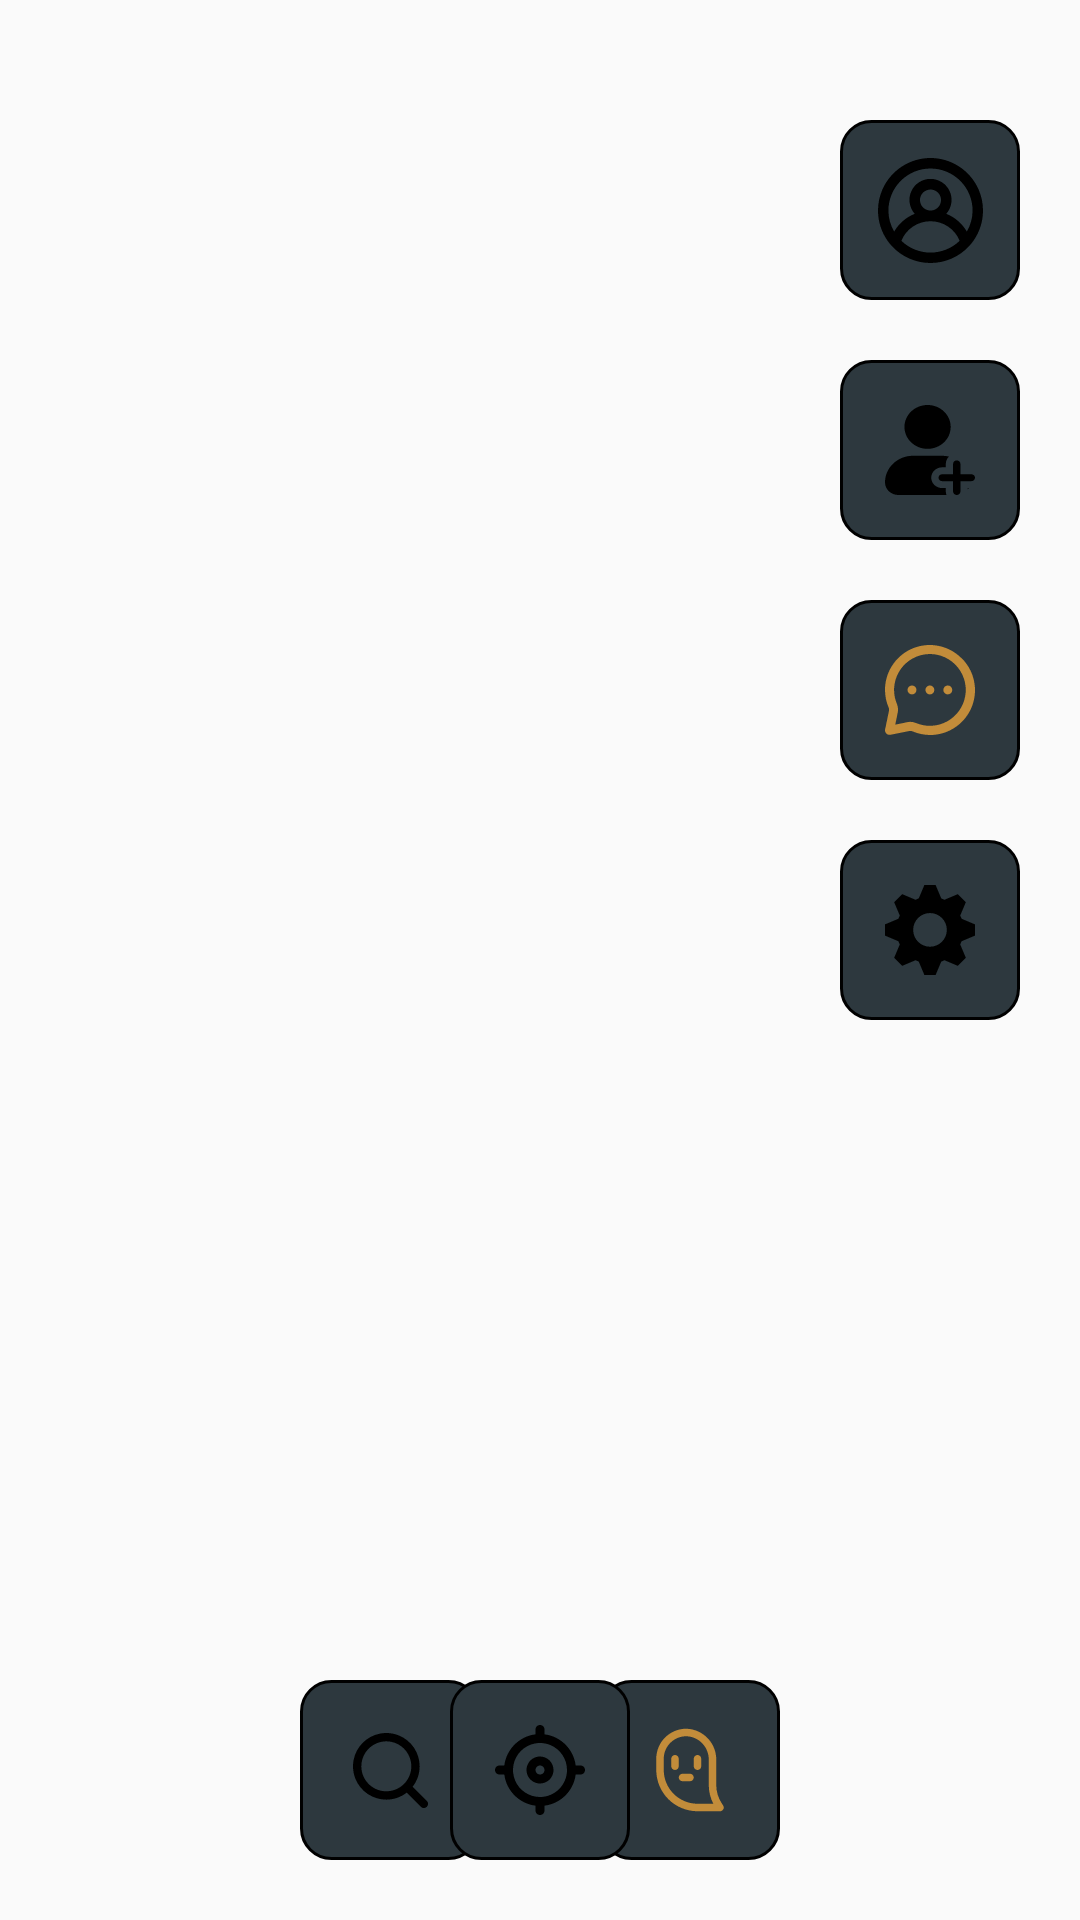

Icon bounding boxes for this 1080w x 1920h phone screenshot, format [x1,y1,x2,y2]:
ghost: [600,1680,780,1860]
invite: [840,360,1020,540]
message: [840,600,1020,780]
profile: [840,120,1020,300]
search: [300,1680,480,1860]
setting: [840,840,1020,1020]
